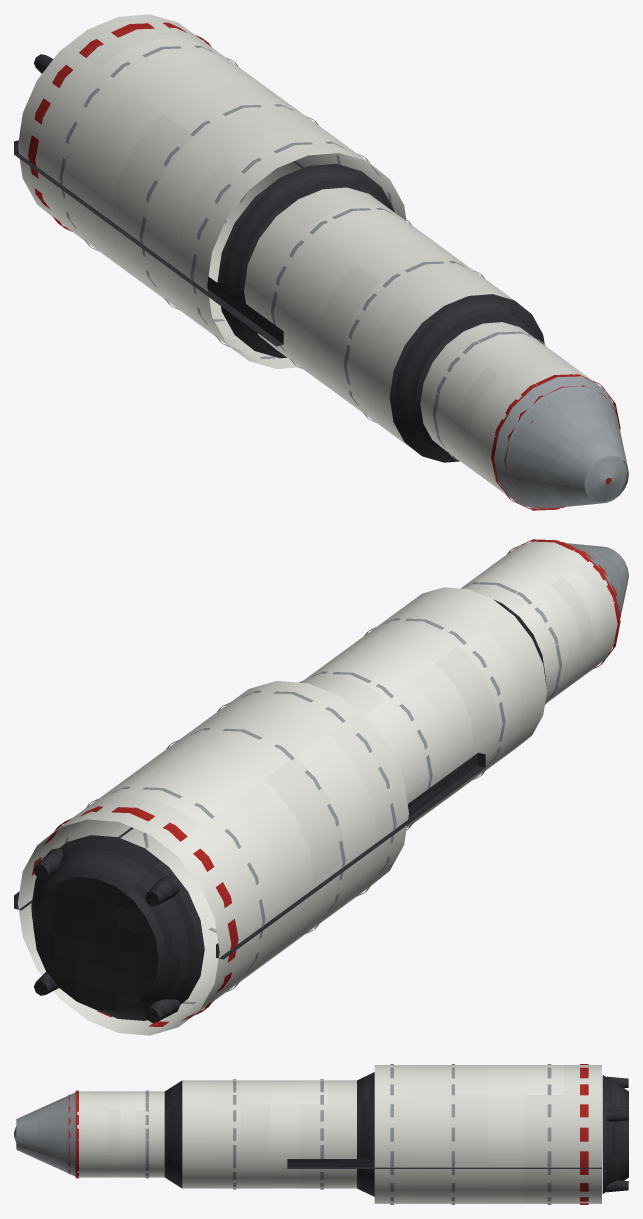
File: missile_icbm_mirv_heavy.glb
3 renders of one model, top to bottom at view 1: azimuth 30°, elevation 25°; view 2: azimuth 150°, elevation 25°; view 3: azimuth 270°, elevation 25°, orthographic. The views are drawn at different scales.
Parts seen in each view (by area): view 1: body; view 2: body; view 3: body.
Part boxes in pixels (left/top/right/bottom): body: left=14, top=14, right=628, bottom=510; body: left=14, top=539, right=628, bottom=1035; body: left=14, top=1064, right=628, bottom=1204.
Bounding box in the file's own units: 1.66 × 1.61 × 7.04.
1 material, 1 textured.
